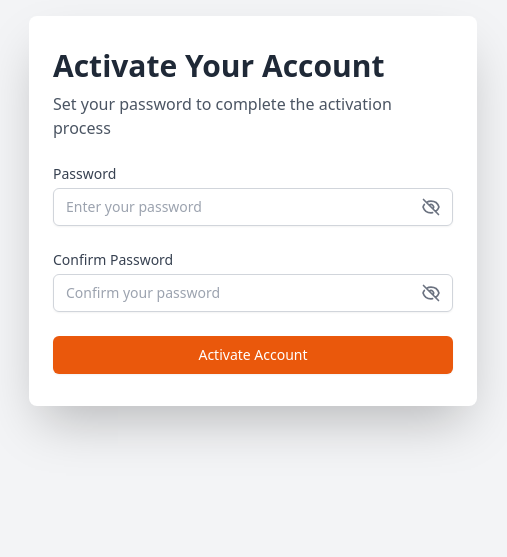
Scenario: ActivateAccount Component › handles password mismatch error
In the password field labelled "Password": (253, 207) [53,188,453,226], type "password1"
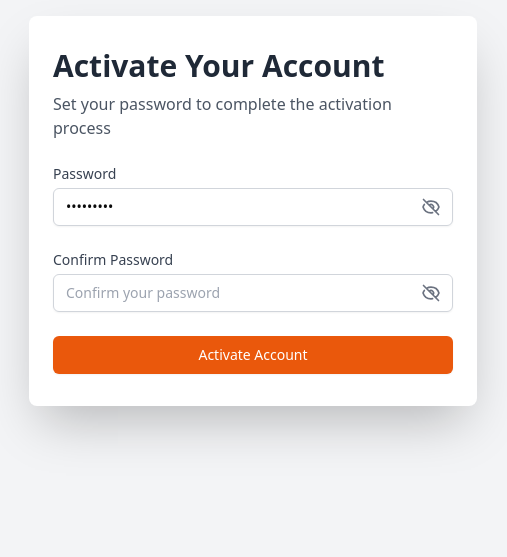
In the password field labelled "Confirm Password": (253, 293) [53,274,453,312], type "password2"
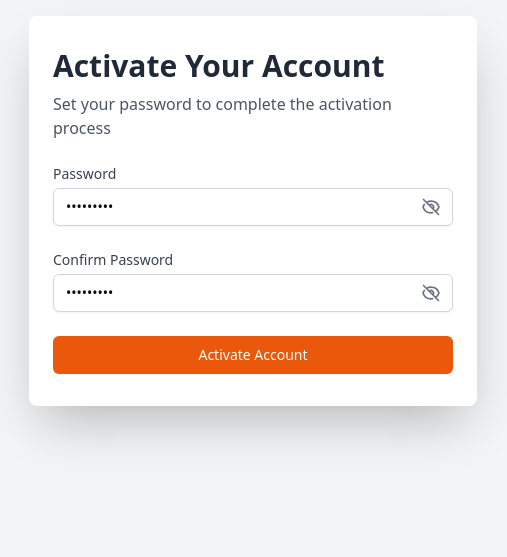
Click the button "Activate Account": (253, 355) [53,336,453,374]
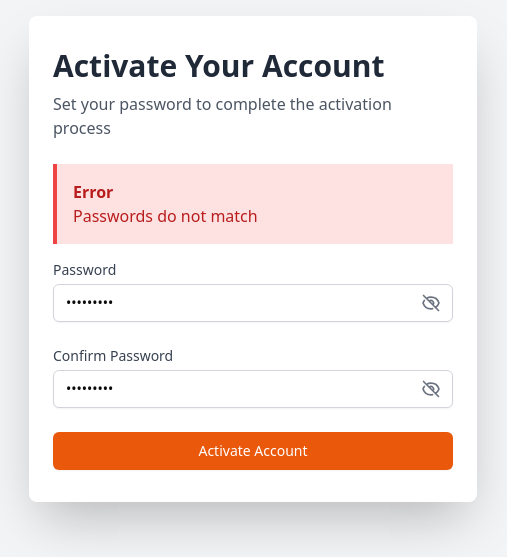
Check: the text "Passwords do not match" is shown, box [73,205,258,227]
